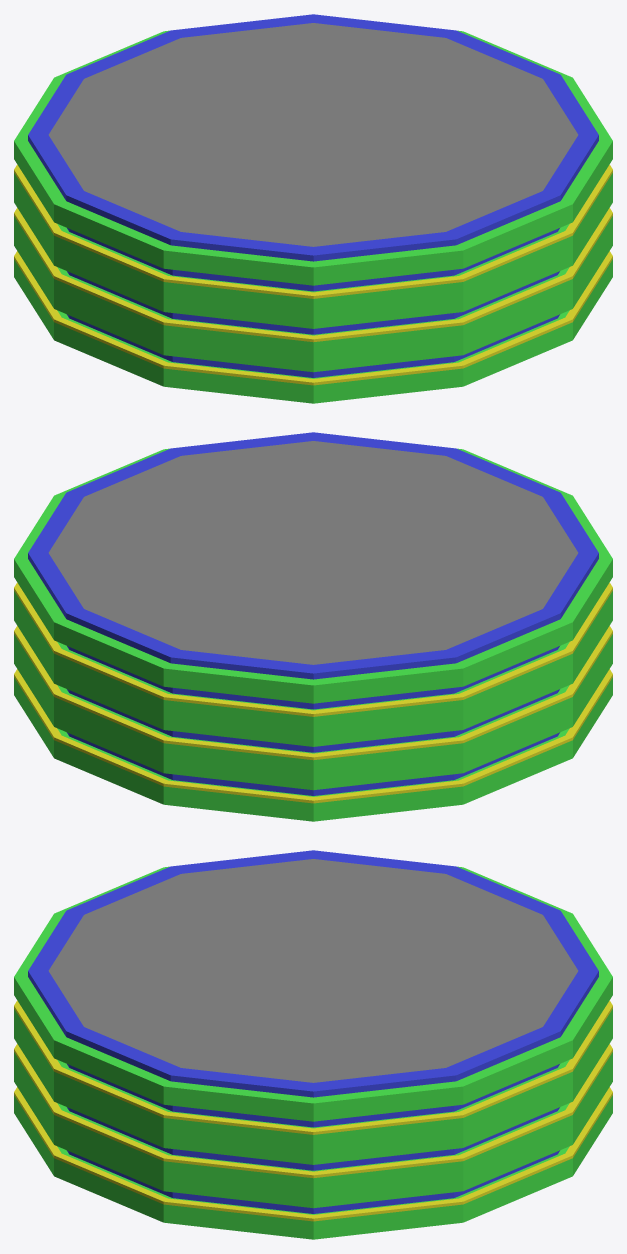
The model's file is Table_06.fbx.
3 renders of one model, top to bottom at view 1: azimuth 30°, elevation 25°; view 2: azimuth 150°, elevation 25°; view 3: azimuth 270°, elevation 25°, orthographic.
Parts seen in each view (by area): view 1: Table_06; view 2: Table_06; view 3: Table_06.
Boxes of the visible parts, left/top/right/bottom form: Table_06: left=14, top=14, right=612, bottom=403; Table_06: left=14, top=432, right=612, bottom=821; Table_06: left=14, top=850, right=612, bottom=1239.
Size of what is drawn, in the model's own units: 243 by 63.64 by 243.
